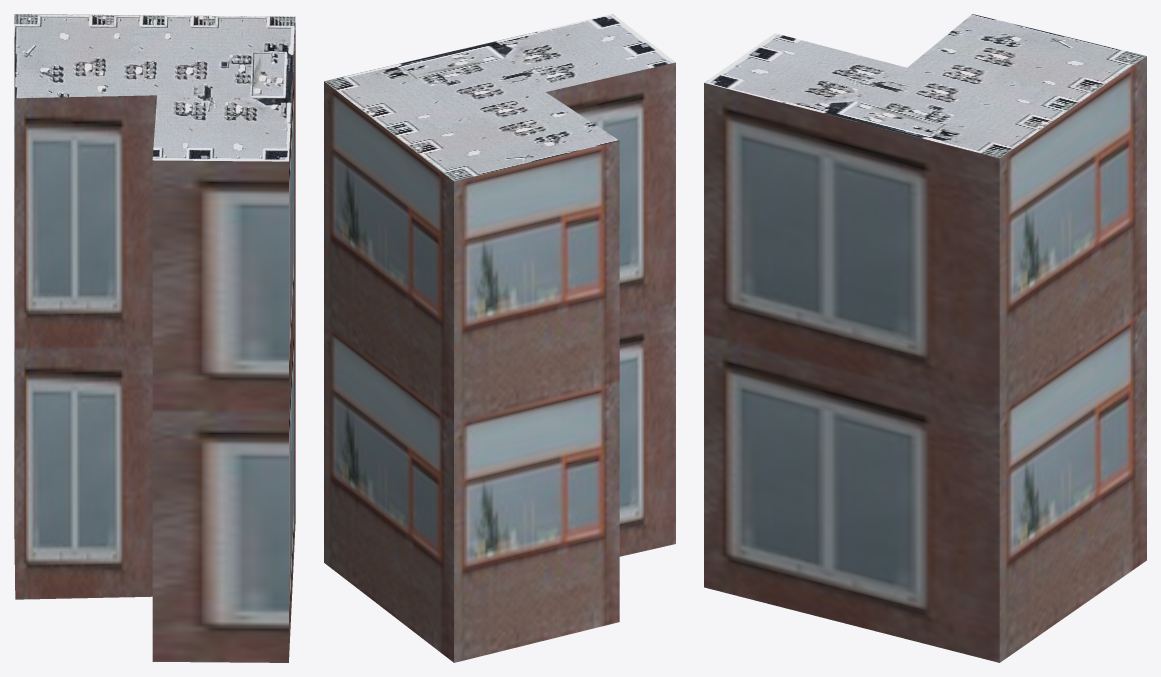
File: ResTex__951.fbx
The picture shows the model from 3 angles, left to right: view 1: azimuth 30°, elevation 25°; view 2: azimuth 150°, elevation 25°; view 3: azimuth 270°, elevation 25°; orthographic projection. The views are drawn at different scales.
Visible parts, largest first — view 1: CityEngineMaterial_19_m, CityEngineMaterial_8_m; view 2: CityEngineMaterial_19_m, CityEngineMaterial_8_m; view 3: CityEngineMaterial_19_m, CityEngineMaterial_8_m.
Part boxes in pixels (left/top/right/bottom): CityEngineMaterial_19_m: left=14, top=23, right=295, bottom=662; CityEngineMaterial_8_m: left=14, top=14, right=295, bottom=161; CityEngineMaterial_19_m: left=324, top=62, right=675, bottom=662; CityEngineMaterial_8_m: left=324, top=14, right=675, bottom=181; CityEngineMaterial_19_m: left=704, top=56, right=1146, bottom=662; CityEngineMaterial_8_m: left=704, top=14, right=1146, bottom=158.
Size of the model in its own units: 3.68 by 6 by 4.77.
Materials: 2 (2 with a texture image).
